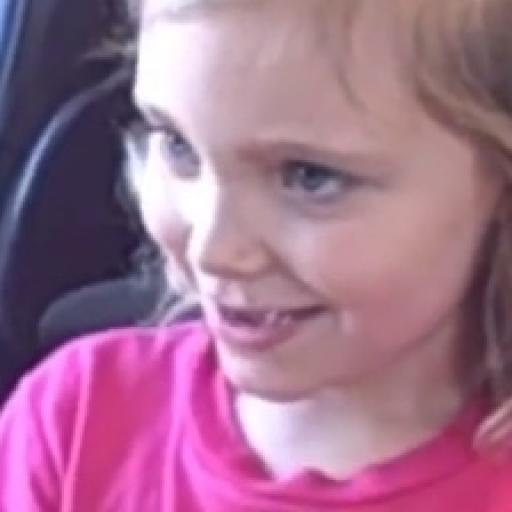Autism: (107, 14, 512, 502)
